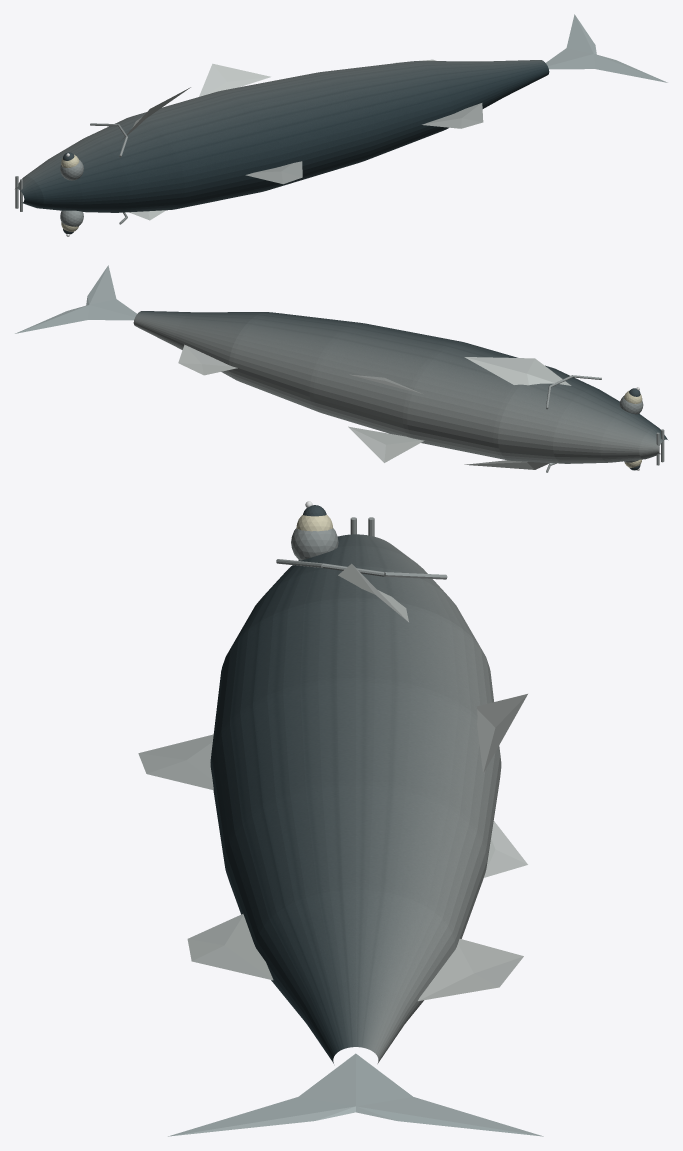
The model's file is Ikan_Belanak.glb.
3 views of the same model, one above another, from view 1: azimuth 30°, elevation 25°; view 2: azimuth 150°, elevation 25°; view 3: azimuth 270°, elevation 25° (orthographic). The views are drawn at different scales.
Parts seen in each view (by area): view 1: fish; view 2: fish; view 3: fish.
Part boxes in pixels (left/top/right/bottom): fish: left=15, top=14, right=667, bottom=236; fish: left=15, top=265, right=667, bottom=472; fish: left=138, top=501, right=543, bottom=1136.
Size of the model in its own units: 3.39 by 0.6 by 0.99.
1 material, 1 textured.
